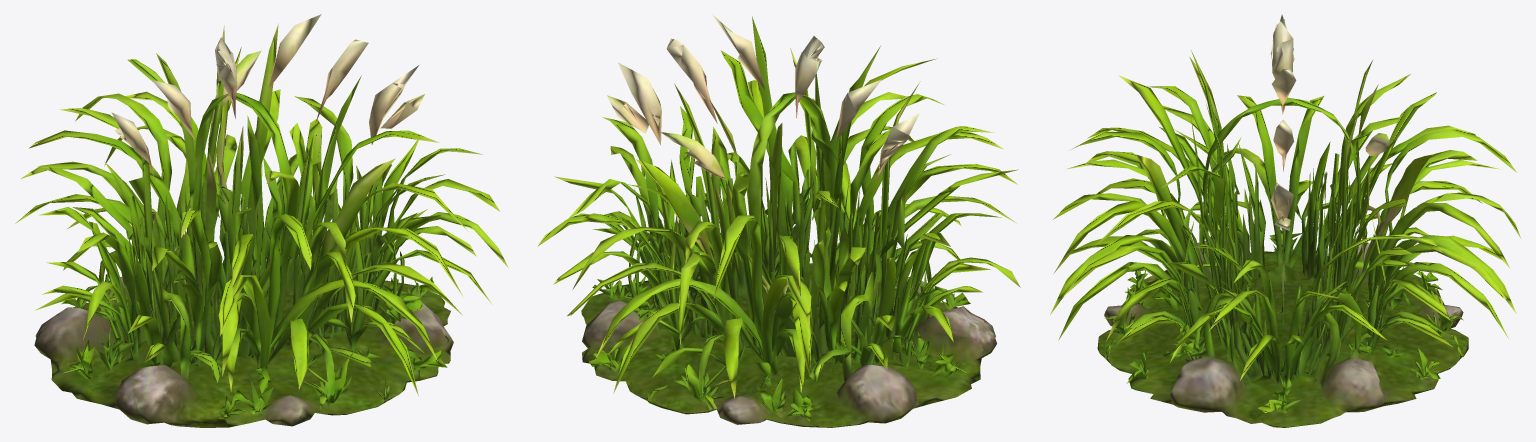
File: semak-1.glb
3 views of the same model, side by side, from view 1: azimuth 30°, elevation 25°; view 2: azimuth 150°, elevation 25°; view 3: azimuth 270°, elevation 25° (orthographic). The views are drawn at different scales.
Visible parts, largest first — view 1: pohon; view 2: pohon; view 3: pohon.
Part boxes in pixels (left/top/right/bottom): pohon: left=15, top=14, right=508, bottom=427; pohon: left=537, top=14, right=1020, bottom=427; pohon: left=1050, top=14, right=1520, bottom=427.
Size of the model in its own units: 0.941 by 0.6896 by 0.9683.
Materials: 1 (1 with a texture image).
